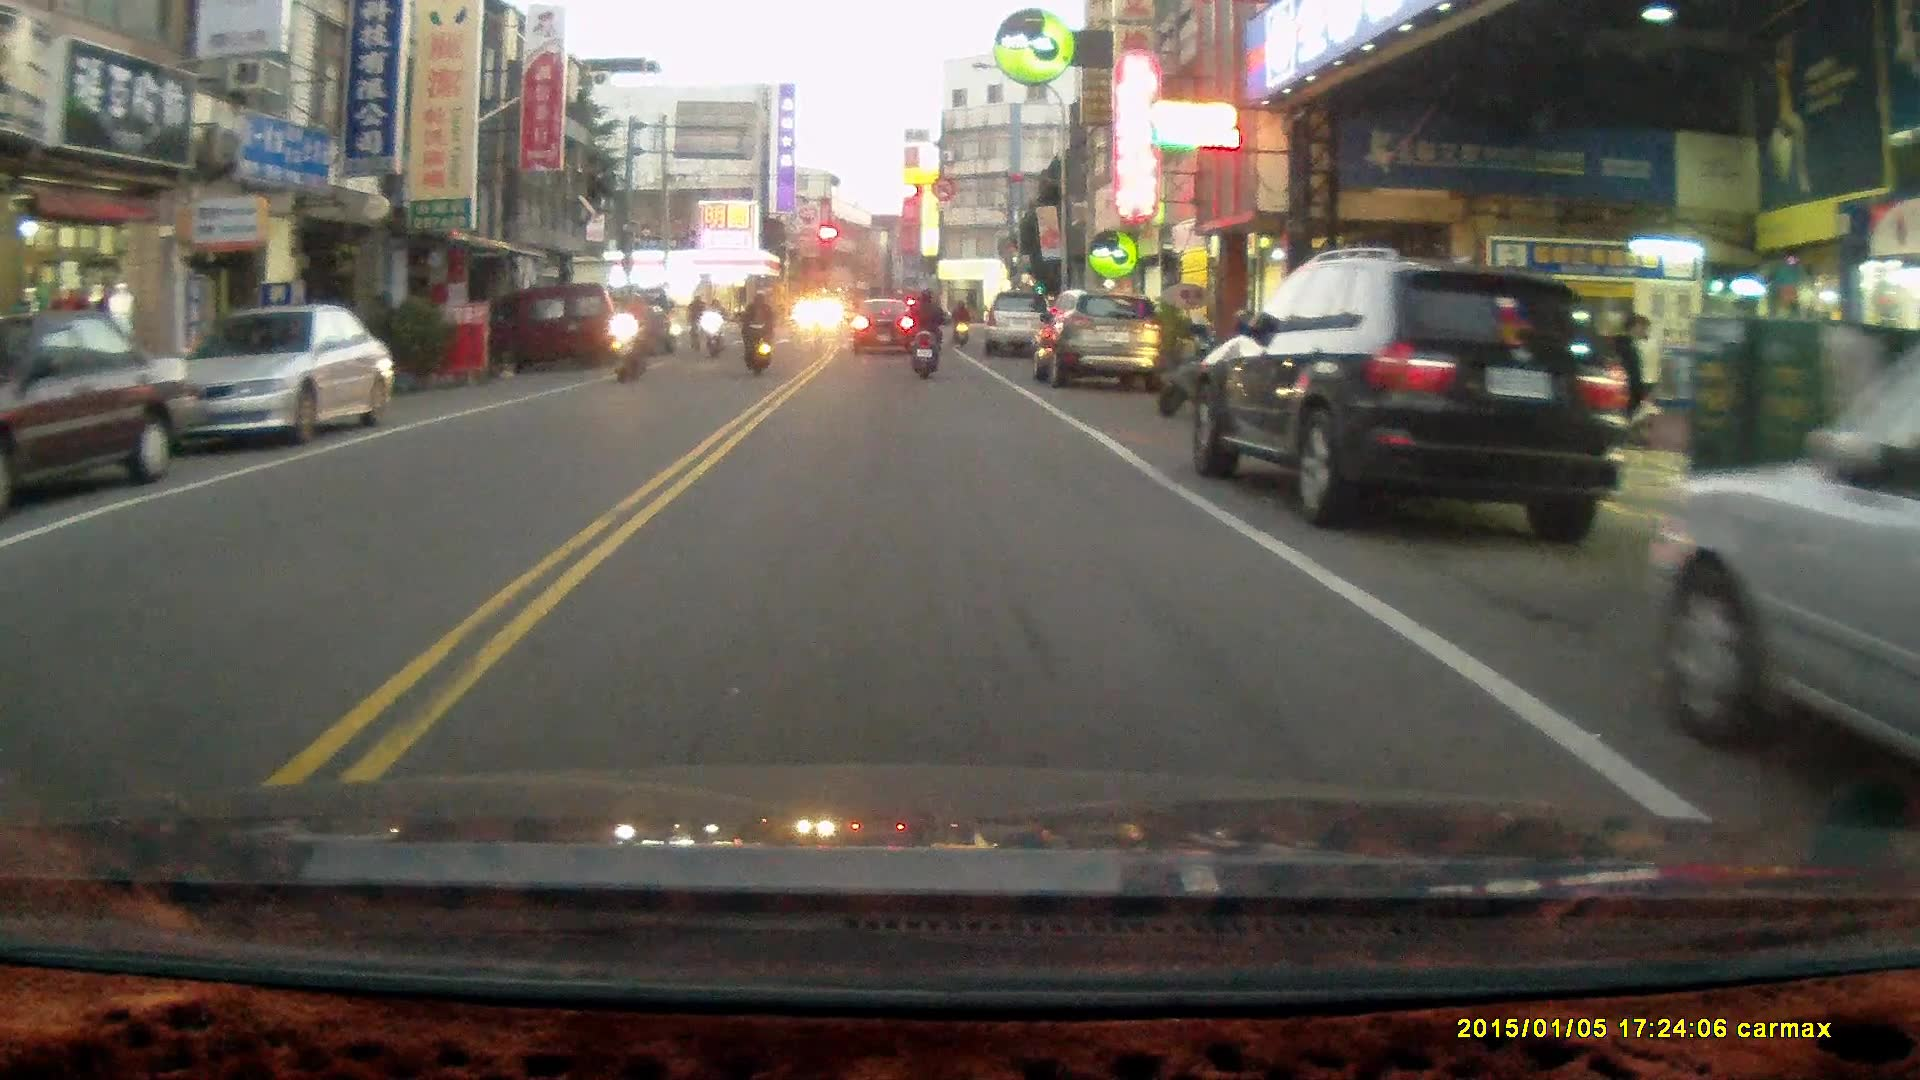pedestrian: (1601, 308, 1648, 504), (1619, 316, 1658, 452)
rider: (903, 286, 944, 379), (610, 283, 649, 380), (739, 287, 773, 377), (700, 294, 726, 357), (687, 291, 708, 356), (947, 294, 968, 343)
vehicle: (1638, 340, 1920, 811), (1189, 251, 1629, 545), (6, 307, 204, 508), (147, 302, 405, 447), (1031, 291, 1164, 389), (516, 282, 631, 366), (977, 290, 1064, 363)
